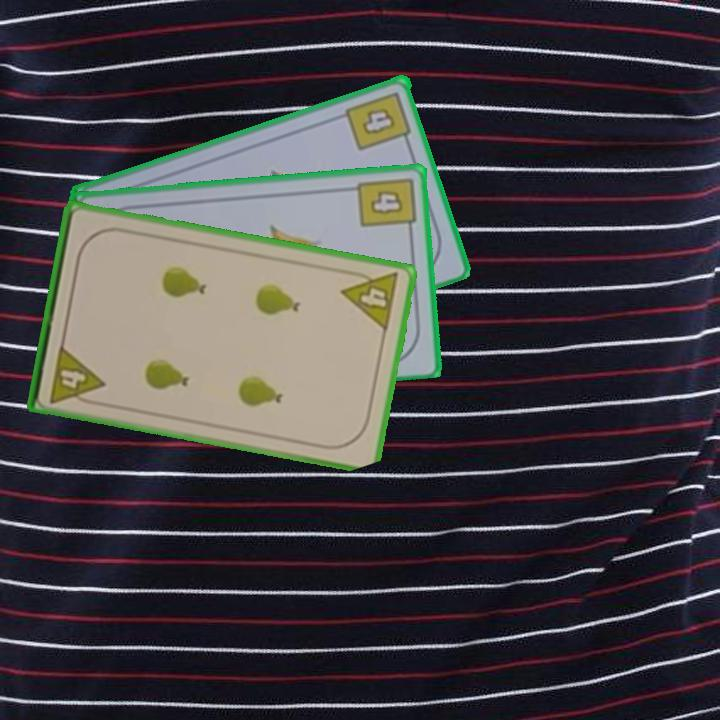4b: (343, 87, 415, 153), (354, 173, 418, 237)
4p: (338, 265, 402, 334), (46, 341, 107, 408)
